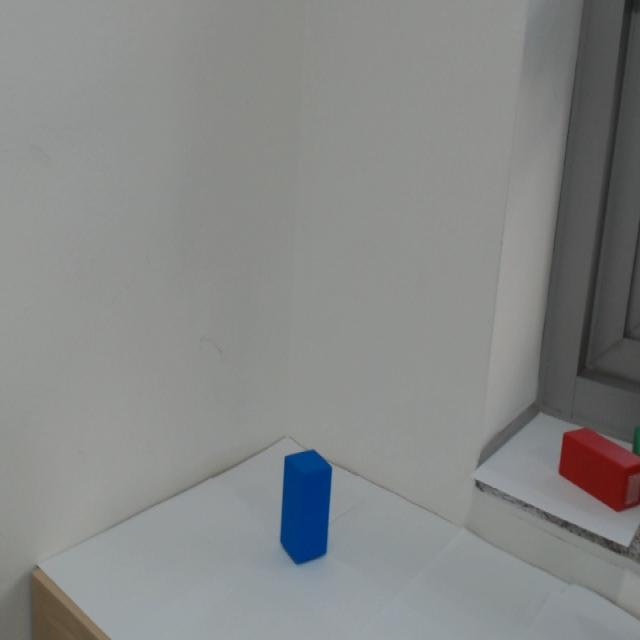cube: (268, 439, 348, 605)
